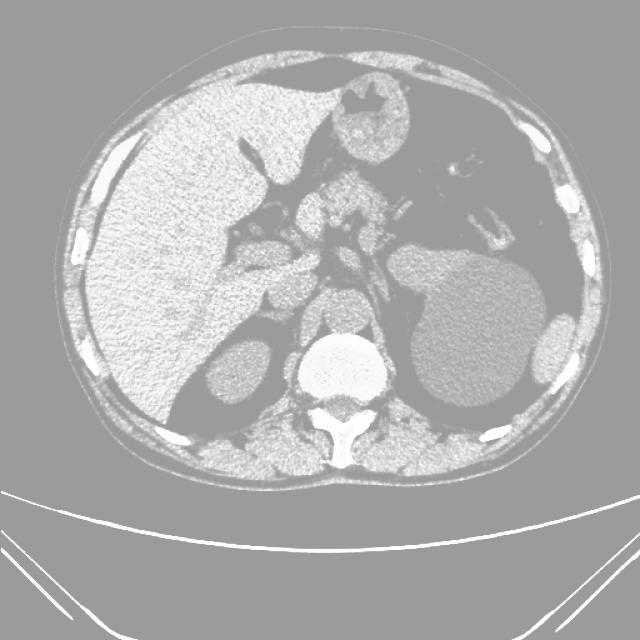cysts: (56, 39, 609, 489)
